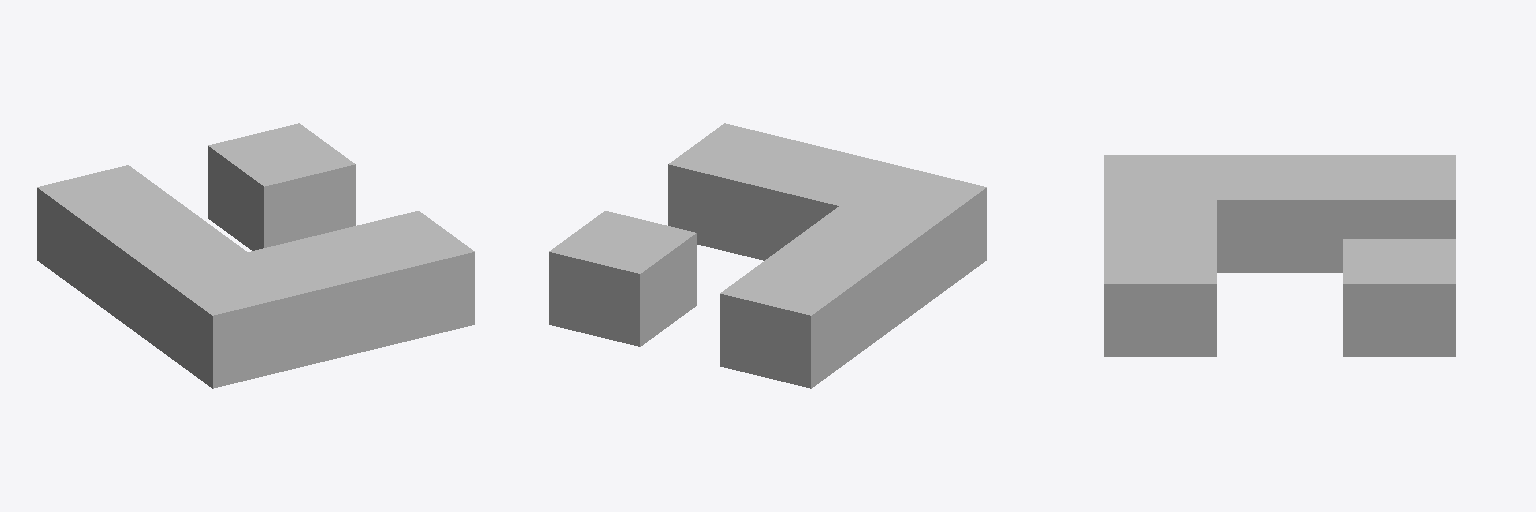
File: CornerMaze3.obj
3 renders of one model, left to right at view 1: azimuth 30°, elevation 25°; view 2: azimuth 150°, elevation 25°; view 3: azimuth 270°, elevation 25°, orthographic.
Parts seen in each view (by area): view 1: Cube.006_Cube.013; view 2: Cube.006_Cube.013; view 3: Cube.006_Cube.013.
Part boxes in pixels (x1,y1,x2,y2): Cube.006_Cube.013: (37,123,474,388); Cube.006_Cube.013: (549,123,986,388); Cube.006_Cube.013: (1104,155,1455,356).
Size of the model in its own units: 24.57 by 6.52 by 28.47.